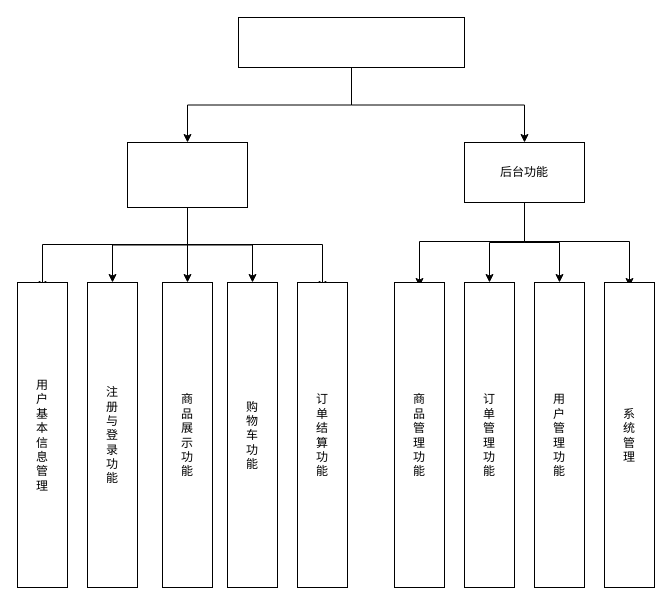
Image size: 672x605. Some labels were removed from this diagram. The centre of each missing label's shape, as x and y in pixels:
‘每日有鲜‘网络商城小程序: (x=351, y=42)
前端功能: (x=187, y=175)
